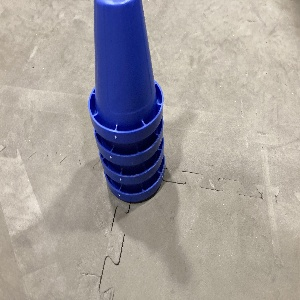Blue_4: (88, 0, 165, 202)
